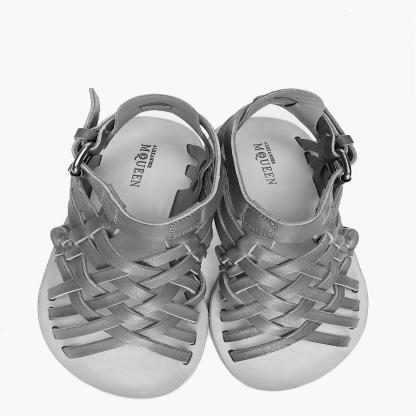ankle: (72, 161, 91, 173), (338, 146, 352, 158)
heel: (139, 121, 158, 131), (254, 123, 267, 131)
left_foot: (221, 118, 365, 393)
pinky: (324, 354, 338, 362), (70, 367, 82, 373)
right_foot: (41, 118, 215, 398)
toe: (237, 365, 255, 376), (161, 374, 175, 386)
